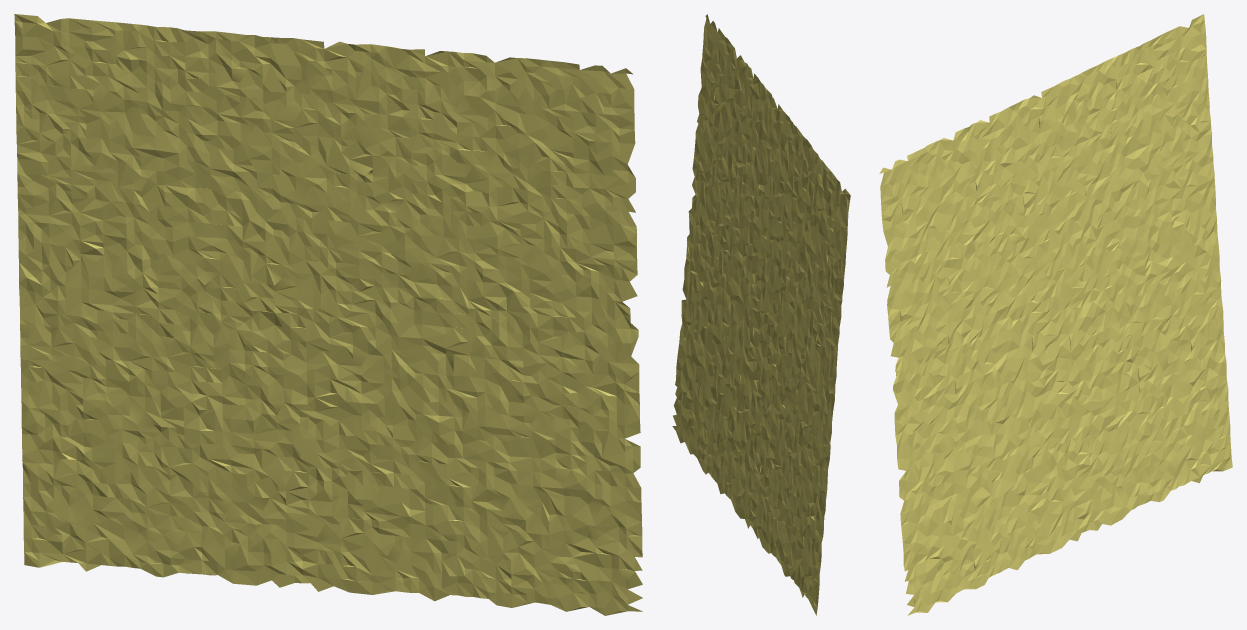
The model's file is hintergrund_normal.fbx.
3 renders of one model, left to right at view 1: azimuth 30°, elevation 25°; view 2: azimuth 150°, elevation 25°; view 3: azimuth 270°, elevation 25°, orthographic. The views are drawn at different scales.
Visible parts, largest first — view 1: back_verlauf; view 2: back_verlauf; view 3: back_verlauf.
Boxes of the visible parts, <box> form: back_verlauf: <box>14,14,642,615</box>; back_verlauf: <box>672,14,850,615</box>; back_verlauf: <box>879,14,1232,615</box>.
Bounding box in the file's own units: 30796 × 38551 × 27853.
